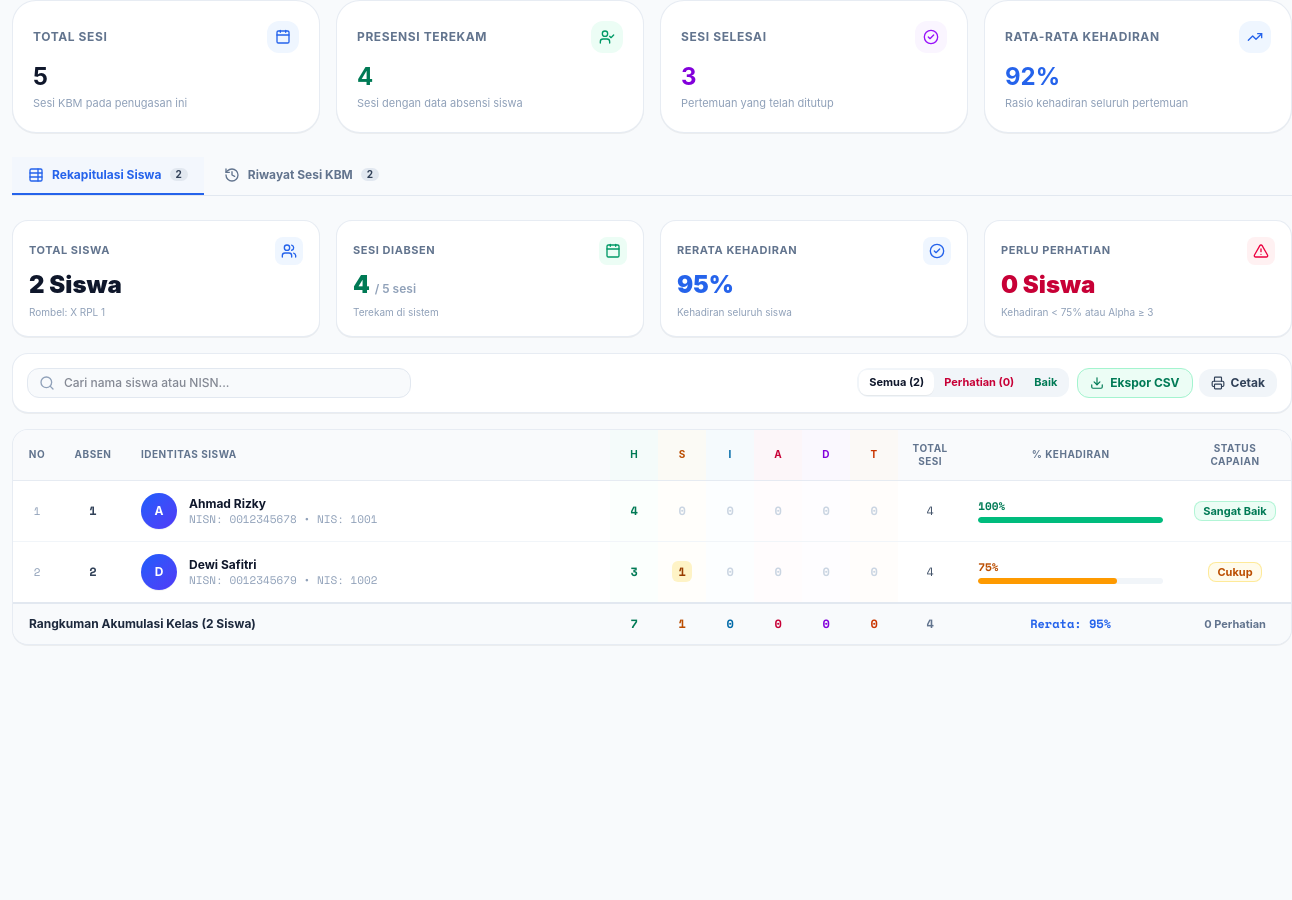
Scenario: ClassAttendanceTabView › renders student attendance recap table by default when recap prop is provided
This screenshot has width=1292, height=900.
Check: the text "Ahmad Rizky" is shown, box 189,496 -> 266,511
Check: the text "Dewi Safitri" is shown, box 189,557 -> 256,572
Note: Beralih ke sub-tab Riwayat Sesi KBM
Click the button "Riwayat Sesi KBM 2".
click(301, 176)  # box 208,156 -> 395,194
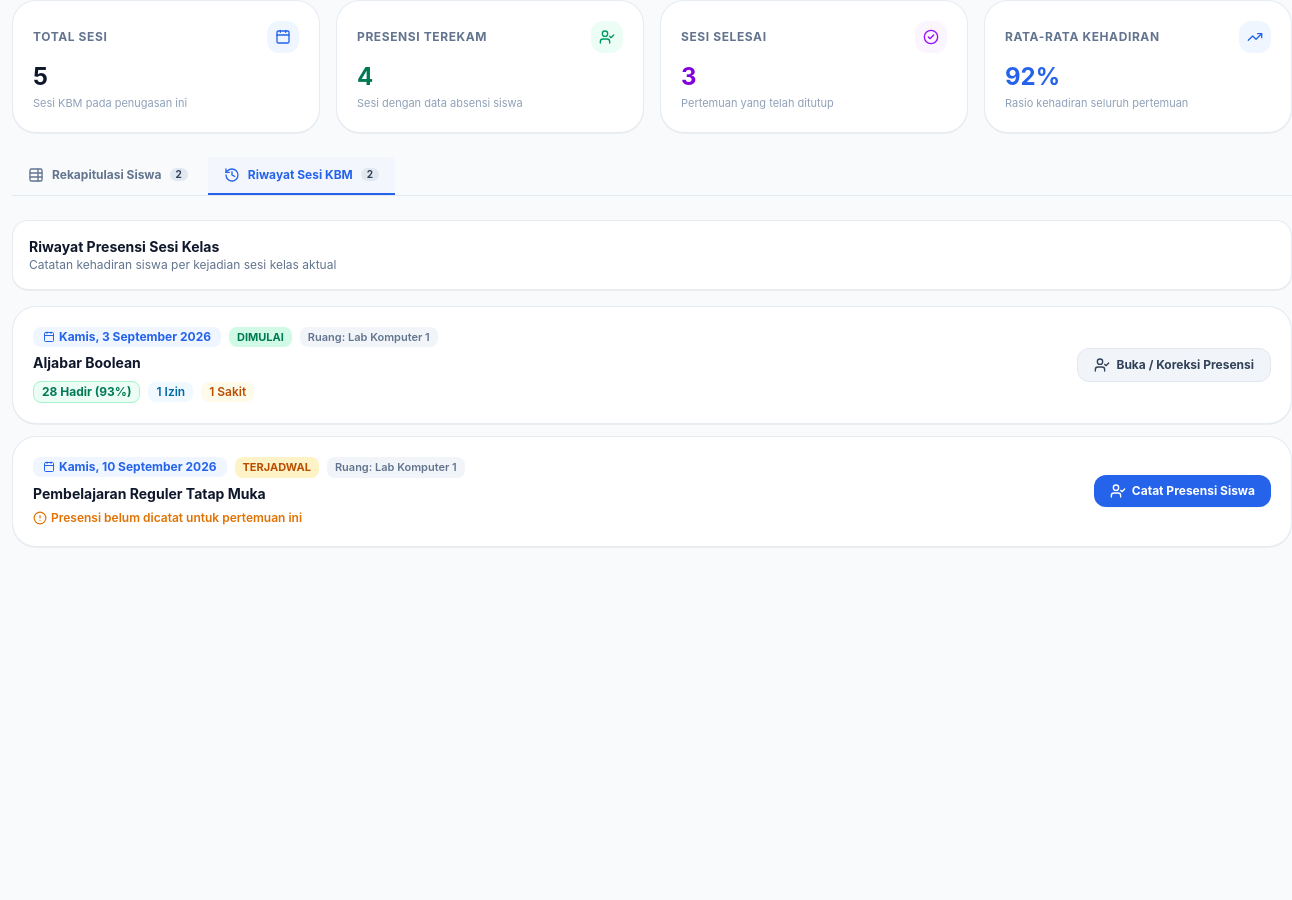
Check: the heading "Aljabar Boolean" is shown, box 33,354 -> 141,371
Check: the text "28 Hadir (93%)" is shown, box 33,381 -> 140,403
